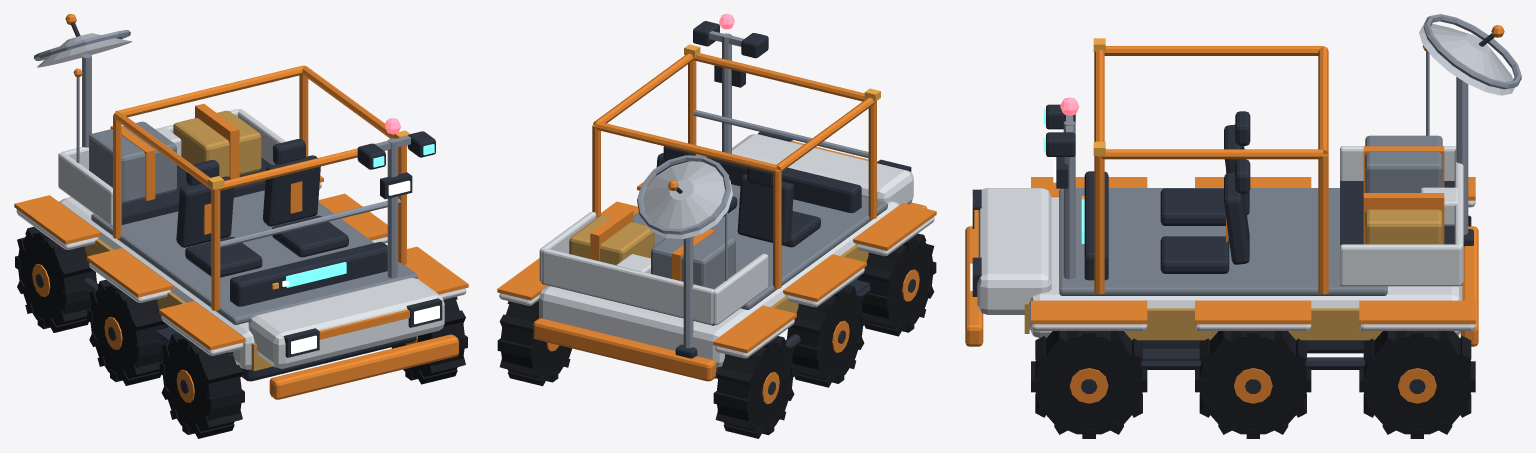
File: rover.glb
3 renders of one model, left to right at view 1: azimuth 30°, elevation 25°; view 2: azimuth 150°, elevation 25°; view 3: azimuth 270°, elevation 25°, orthographic. The views are drawn at different scales.
Visible parts, largest first — view 1: RoverBody, RoverDishMesh; view 2: RoverBody, RoverDishMesh; view 3: RoverBody, RoverDishMesh.
Boxes of the visible parts, box(x1,y1,x2,y2) form: RoverBody: box(14, 65, 468, 438); RoverDishMesh: box(33, 14, 132, 147); RoverBody: box(497, 21, 936, 438); RoverDishMesh: box(637, 155, 732, 358); RoverBody: box(965, 38, 1478, 438); RoverDishMesh: box(1419, 14, 1521, 246).
Bounding box in the file's own units: 2.28 × 2.29 × 3.73.
